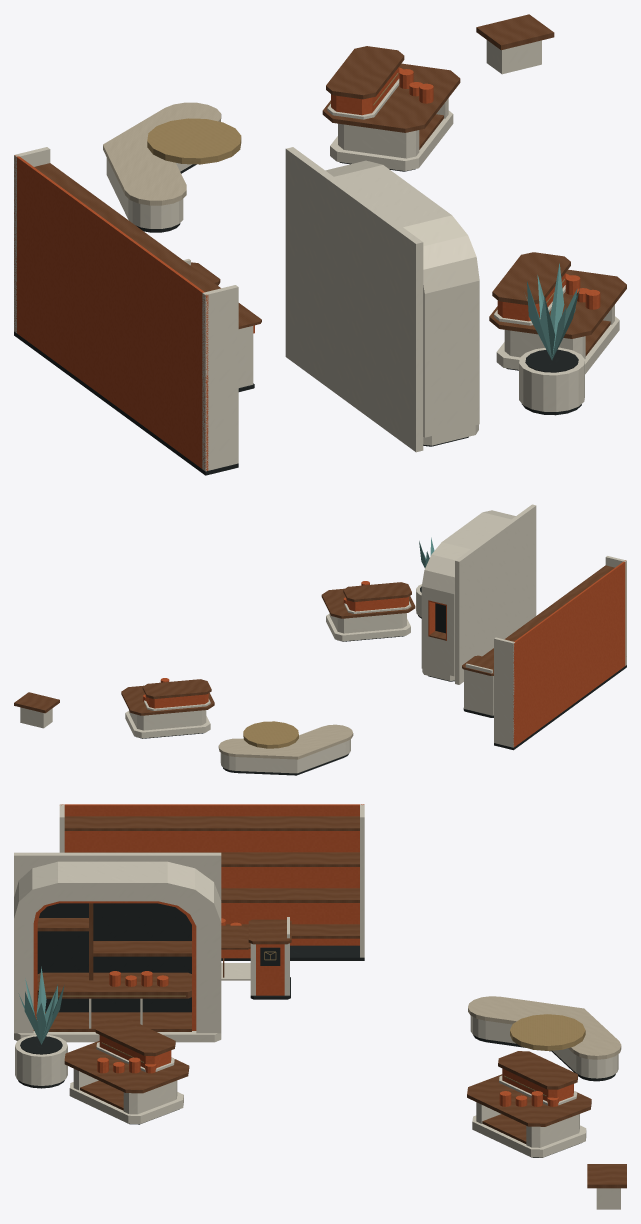
File: SHOP_D09_S72_A262__fitout.glb
The picture shows the model from 3 angles, top to bottom: view 1: azimuth 30°, elevation 25°; view 2: azimuth 150°, elevation 25°; view 3: azimuth 270°, elevation 25°; orthographic projection. The views are drawn at different scales.
Visible parts, largest first — view 1: SHOP_D09_S72_A262__fitout__ivory_enamel, SHOP_D09_S72_A262__fitout__retail_terracotta_enamel, SHOP_D09_S72_A262__fitout__warm_walnut, SHOP_D09_S72_A262__fitout__oatmeal_weave, SHOP_D09_S72_A262__fitout__champagne_metal, SHOP_D09_S72_A262__fitout__dark_rubber, SHOP_D09_S72_A262__fitout__quiet_teal; view 2: SHOP_D09_S72_A262__fitout__ivory_enamel, SHOP_D09_S72_A262__fitout__retail_terracotta_enamel, SHOP_D09_S72_A262__fitout__warm_walnut, SHOP_D09_S72_A262__fitout__oatmeal_weave, SHOP_D09_S72_A262__fitout__dark_rubber, SHOP_D09_S72_A262__fitout__champagne_metal; view 3: SHOP_D09_S72_A262__fitout__warm_walnut, SHOP_D09_S72_A262__fitout__ivory_enamel, SHOP_D09_S72_A262__fitout__retail_terracotta_enamel, SHOP_D09_S72_A262__fitout__dark_rubber, SHOP_D09_S72_A262__fitout__oatmeal_weave, SHOP_D09_S72_A262__fitout__champagne_metal, SHOP_D09_S72_A262__fitout__quiet_teal.
Boxes of the visible parts, x1=… form: SHOP_D09_S72_A262__fitout__ivory_enamel: x1=14, y1=40, x2=619, y2=471; SHOP_D09_S72_A262__fitout__retail_terracotta_enamel: x1=14, y1=67, x2=600, y2=470; SHOP_D09_S72_A262__fitout__warm_walnut: x1=34, y1=14, x2=626, y2=356; SHOP_D09_S72_A262__fitout__oatmeal_weave: x1=103, y1=102, x2=221, y2=205; SHOP_D09_S72_A262__fitout__champagne_metal: x1=147, y1=73, x2=564, y2=303; SHOP_D09_S72_A262__fitout__dark_rubber: x1=14, y1=162, x2=581, y2=475; SHOP_D09_S72_A262__fitout__quiet_teal: x1=525, y1=263, x2=579, y2=360; SHOP_D09_S72_A262__fitout__ivory_enamel: x1=20, y1=504, x2=626, y2=773; SHOP_D09_S72_A262__fitout__retail_terracotta_enamel: x1=143, y1=560, x2=625, y2=747; SHOP_D09_S72_A262__fitout__warm_walnut: x1=14, y1=565, x2=614, y2=715; SHOP_D09_S72_A262__fitout__oatmeal_weave: x1=218, y1=724, x2=353, y2=759; SHOP_D09_S72_A262__fitout__dark_rubber: x1=136, y1=586, x2=626, y2=775; SHOP_D09_S72_A262__fitout__champagne_metal: x1=243, y1=721, x2=298, y2=748; SHOP_D09_S72_A262__fitout__warm_walnut: x1=37, y1=816, x2=626, y2=1188; SHOP_D09_S72_A262__fitout__ivory_enamel: x1=14, y1=804, x2=620, y2=1209; SHOP_D09_S72_A262__fitout__retail_terracotta_enamel: x1=33, y1=804, x2=573, y2=1106; SHOP_D09_S72_A262__fitout__dark_rubber: x1=18, y1=903, x2=615, y2=1157; SHOP_D09_S72_A262__fitout__oatmeal_weave: x1=468, y1=996, x2=621, y2=1059; SHOP_D09_S72_A262__fitout__champagne_metal: x1=46, y1=951, x2=585, y2=1096; SHOP_D09_S72_A262__fitout__quiet_teal: x1=18, y1=966, x2=64, y2=1044.
Size of the model in its own units: 10.25 by 3 by 10.05.
7 materials, 6 textured.
